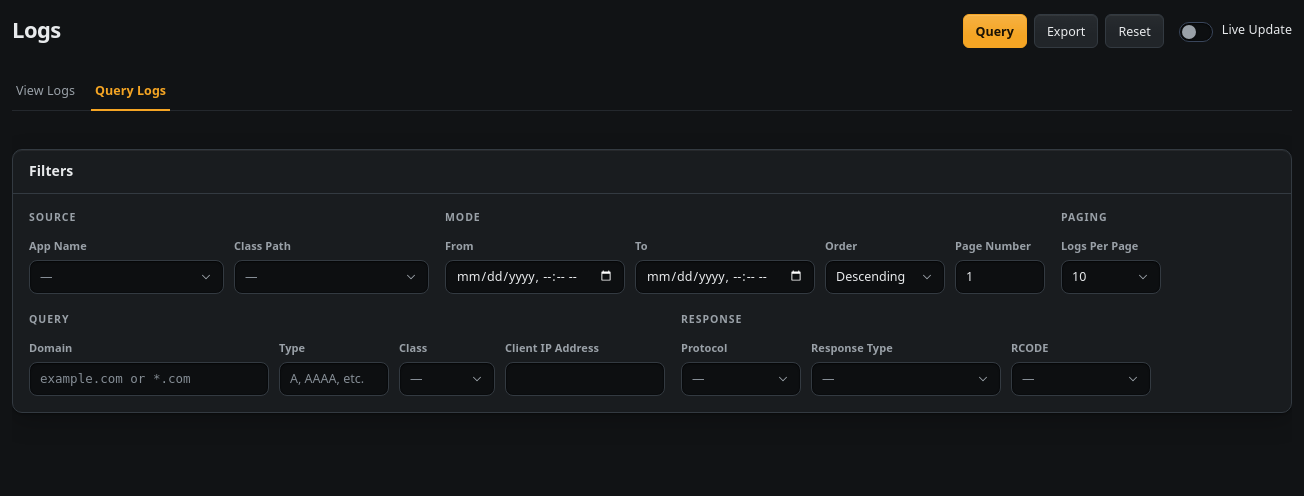
Test: Logs › Query Logs: the form › "Export" alerts with the SAME title but WITHOUT "from the Apps section."
Check: the dropdown named "App Name" is shown, box [29,260,224,294]
Click the button "Export" at (1066, 31), box [1034,14,1098,48]
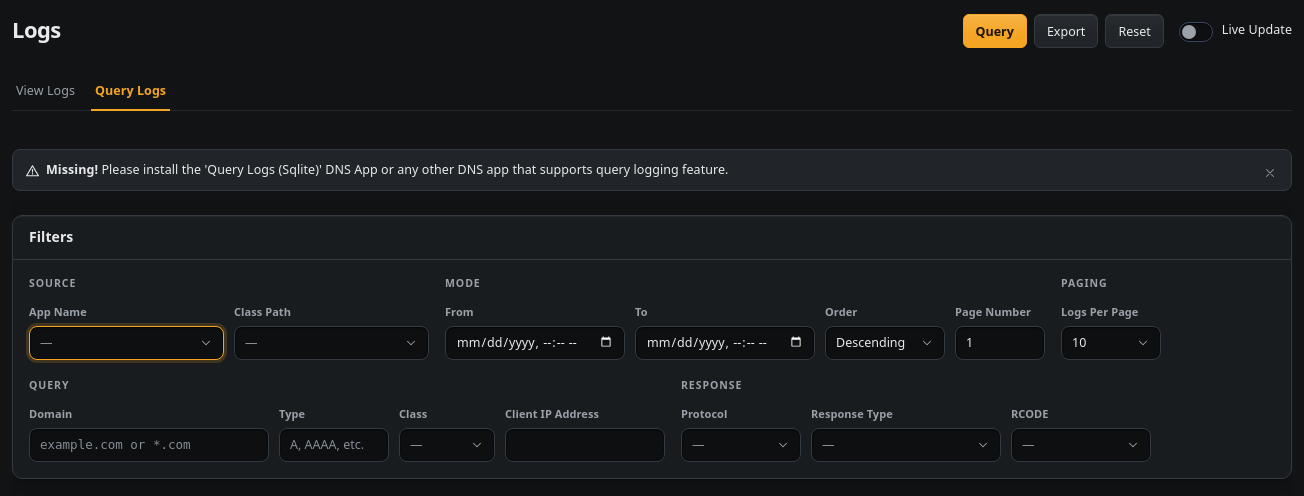
Check: the text "Please install the 'Query Logs (Sqlite)' DNS App or any other DNS app that supports query logging feature." is shown, box [101,161,729,178]
